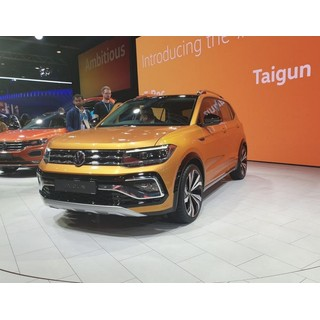car: (36, 90, 248, 224)
